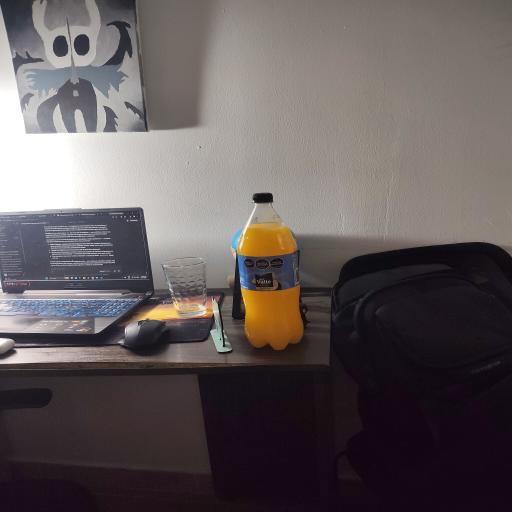Jugo del valle: (238, 193, 303, 349)
